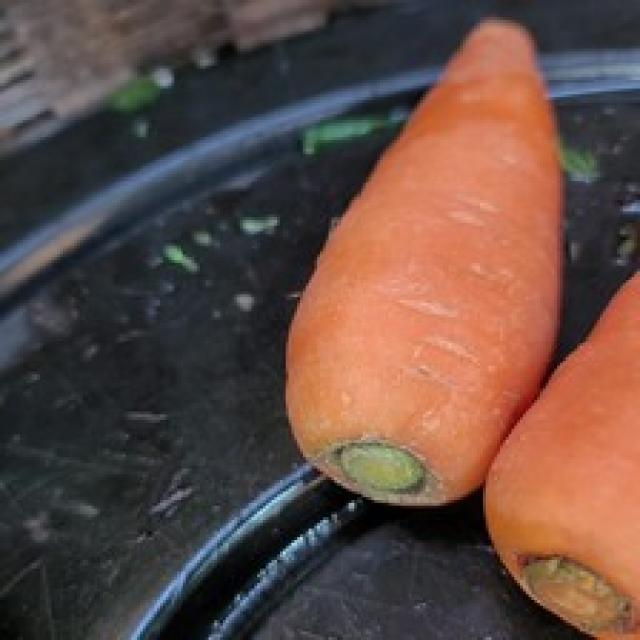carrot: (284, 15, 564, 503), (482, 257, 640, 639)
